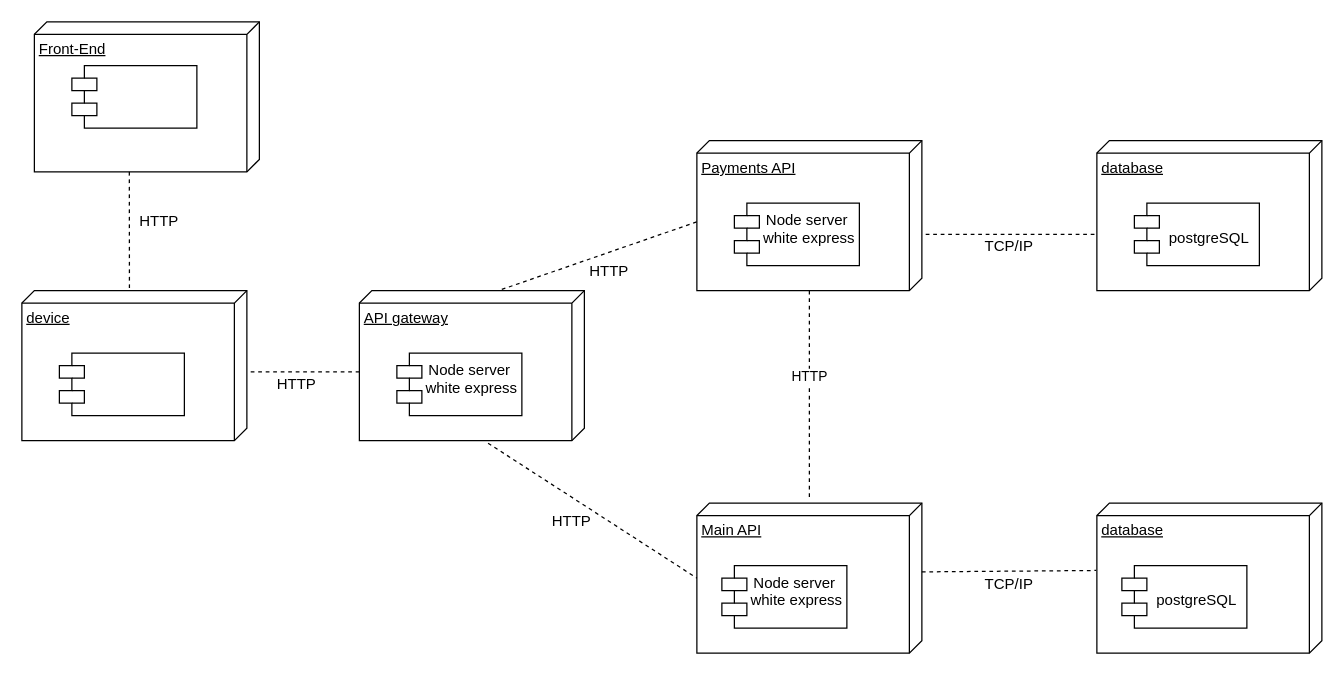
Image size: 1344x675. Some labels were removed from this diagram. Here are the shapes that lost their labels. From the top down, the centre of each, then its label:
point (134, 96): React Native
point (121, 384): mobile app
